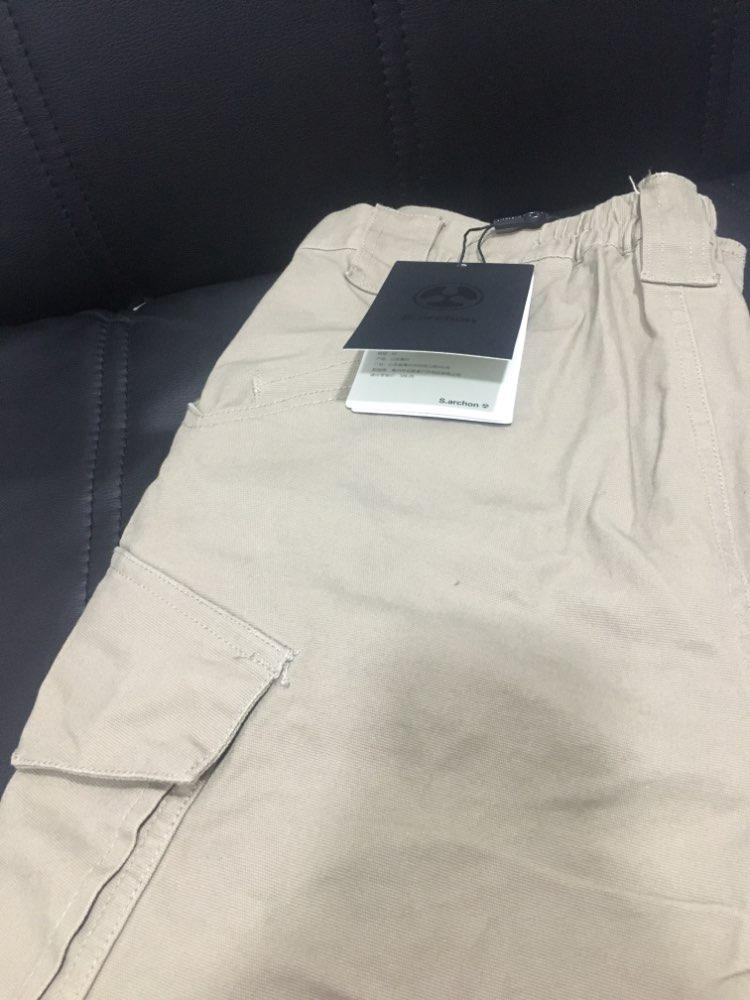pants: (1, 197, 750, 972)
